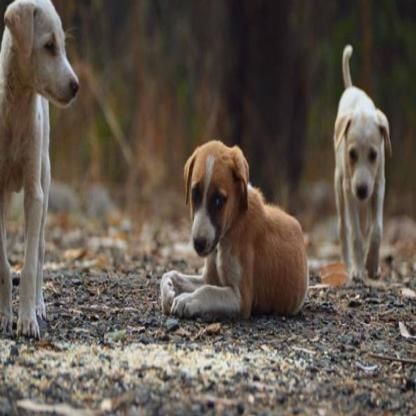dog: (157, 121, 318, 328), (0, 0, 87, 346), (322, 33, 400, 283)
